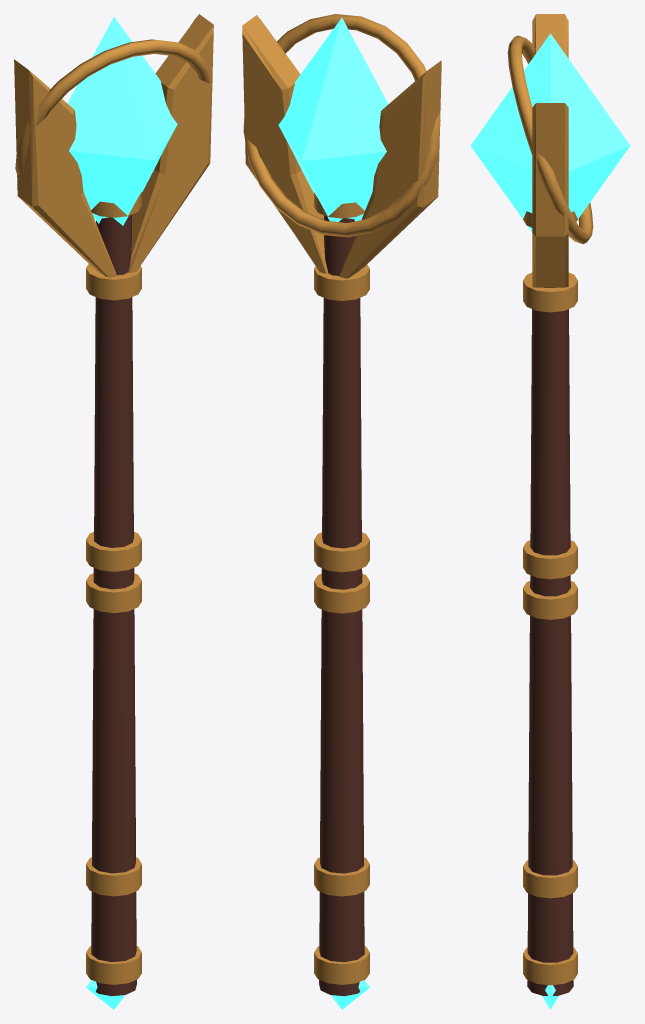
File: staff.glb
The picture shows the model from 3 angles, left to right: view 1: azimuth 30°, elevation 25°; view 2: azimuth 150°, elevation 25°; view 3: azimuth 270°, elevation 25°; orthographic projection.
Visible parts, largest first — view 1: staff; view 2: staff; view 3: staff.
Part boxes in pixels (x1,y1,x2,y2): staff: [14, 14, 213, 1009]; staff: [242, 14, 441, 1009]; staff: [470, 14, 630, 1009].
Bounding box in the file's own units: 0.344 × 1.68 × 0.25.
